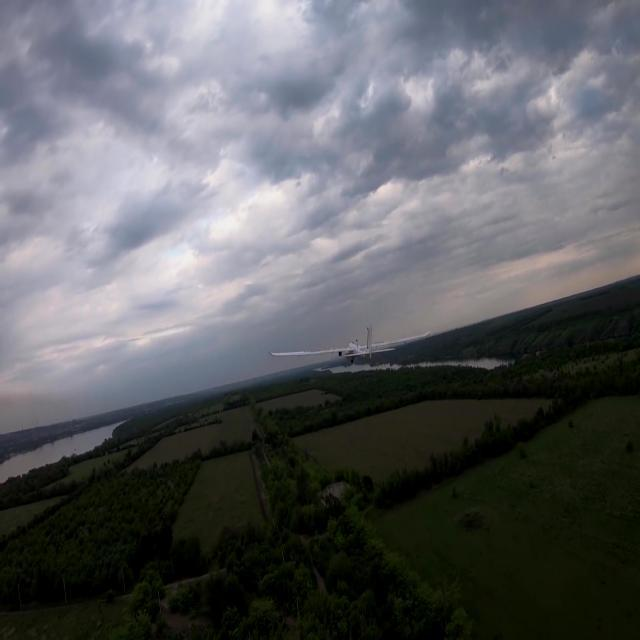iha: (266, 326, 436, 368)
